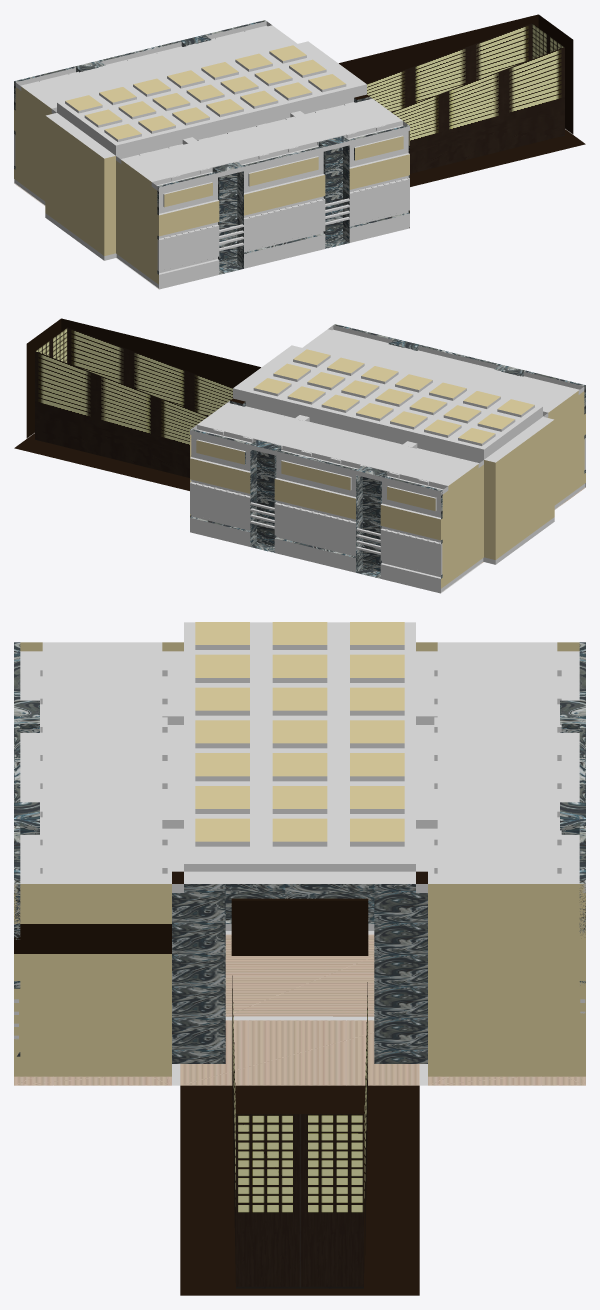
The model's file is Small room 1.fbx.
3 renders of one model, top to bottom at view 1: azimuth 30°, elevation 25°; view 2: azimuth 150°, elevation 25°; view 3: azimuth 270°, elevation 25°, orthographic. The views are drawn at different scales.
Visible parts, largest first — view 1: Cube.104; view 2: Cube.104; view 3: Cube.104.
Part boxes in pixels (x1,y1,x2,y2): Cube.104: (14,14,585,289); Cube.104: (14,318,585,593); Cube.104: (14,622,585,1295).
Size of the model in its own units: 1724 by 434 by 900.
6 materials, 3 textured.
